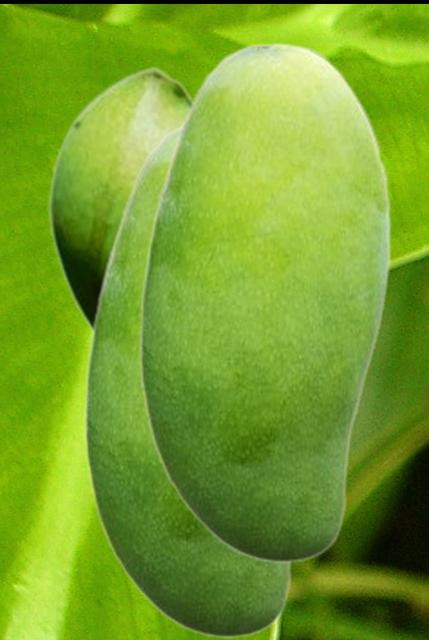green_mango: (138, 41, 391, 563), (83, 123, 294, 638), (47, 65, 192, 333)
